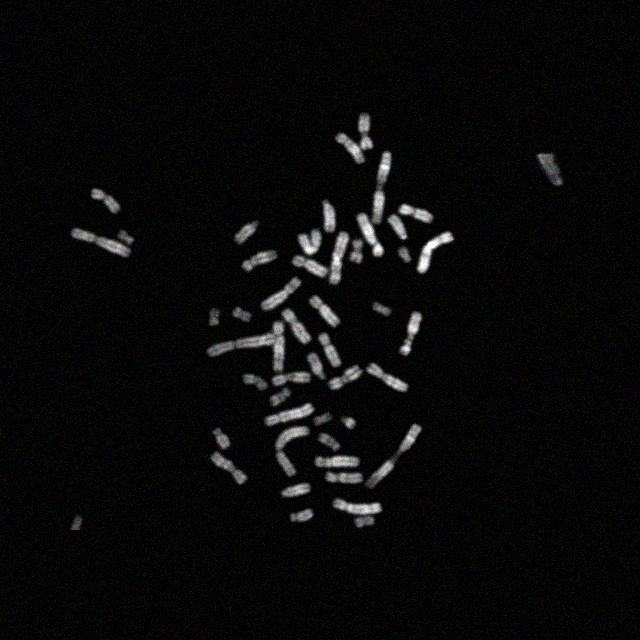chromosome: (365, 423, 423, 489), (274, 425, 310, 477), (70, 227, 130, 257), (417, 230, 455, 274), (207, 333, 276, 357), (372, 150, 394, 223), (208, 450, 247, 486), (260, 278, 302, 310), (366, 363, 408, 392), (264, 402, 314, 426), (356, 213, 382, 257), (283, 308, 312, 344), (329, 232, 349, 284), (400, 310, 422, 356), (309, 295, 339, 327), (335, 132, 365, 164), (242, 248, 278, 274), (332, 498, 382, 516), (330, 364, 362, 391), (293, 254, 329, 276), (92, 187, 120, 213), (400, 203, 434, 223), (320, 332, 340, 366), (314, 454, 361, 468), (298, 228, 322, 254), (359, 112, 375, 150), (273, 322, 285, 372), (323, 471, 365, 485), (234, 220, 258, 243), (308, 352, 327, 380), (274, 372, 311, 386), (280, 482, 312, 498), (388, 216, 408, 240), (243, 373, 267, 392), (322, 199, 336, 231), (318, 432, 340, 452), (269, 388, 291, 406), (212, 428, 230, 450), (231, 306, 251, 324), (290, 508, 314, 522), (350, 240, 364, 262), (372, 302, 392, 316), (208, 308, 222, 328), (355, 515, 375, 529), (396, 247, 412, 263), (340, 414, 356, 430), (314, 413, 332, 427), (119, 230, 133, 242)
